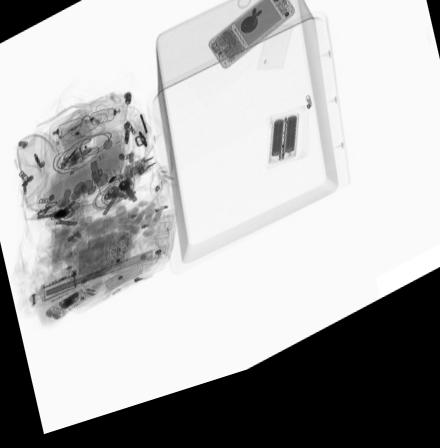Powerbank: (265, 128, 298, 179)
